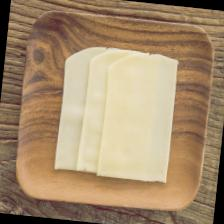cheese: (96, 50, 180, 184), (76, 47, 159, 180), (53, 44, 121, 175)
